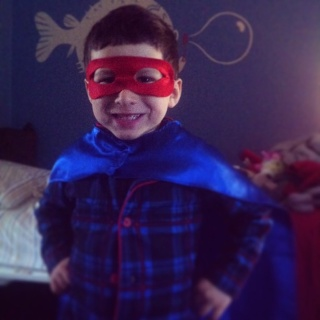without_mask: (92, 43, 170, 139)
